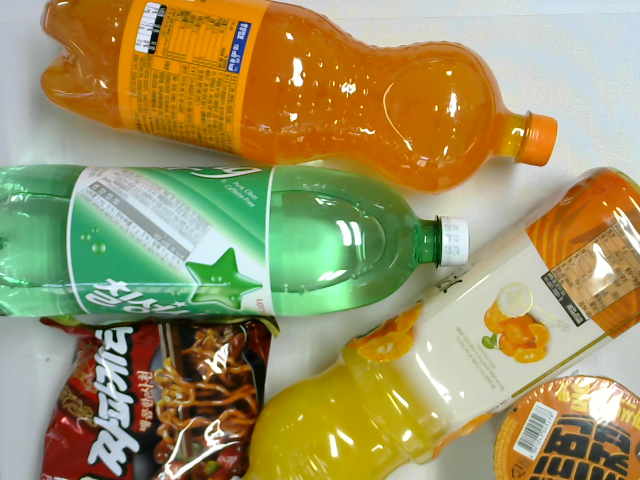Chilseong_Cider_1.5L: (1, 166, 470, 316)
Hwanta_Orange_1.5L: (39, 1, 559, 194)
Jeju_Tangerine_1.5L: (247, 165, 640, 477)
Sichuan_Chapaghetti: (39, 317, 279, 480)
Udongmini: (493, 375, 638, 480)
